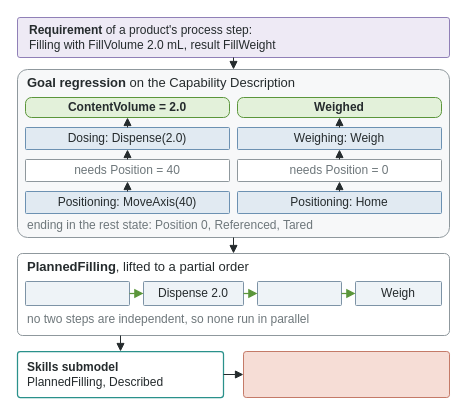
The diagram is 468 pixels wide and 416 high, and some of its shapes have lost their labels. Here are the shapes that lost their labels. From the top down, the box of each, then its label:
(24, 280, 130, 306): MoveAxis 40
(256, 280, 342, 306): Home
(242, 350, 450, 398): Reconciled online instances of the same names
